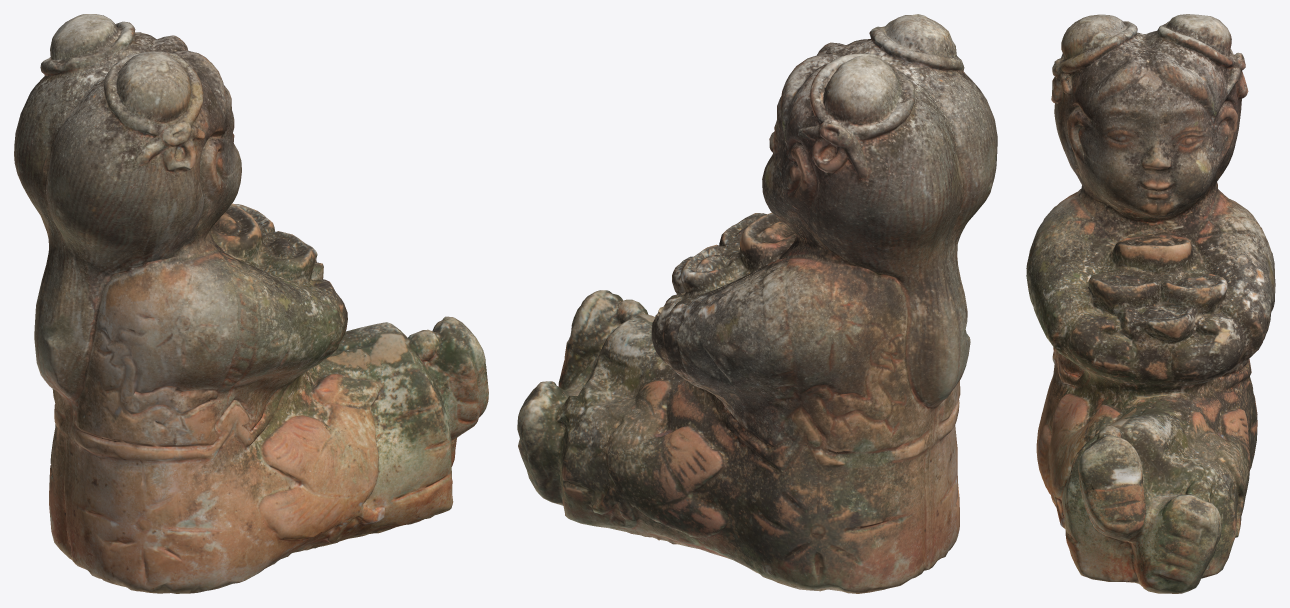
Rendered from SM_Statue_NN_05a.fbx.
The picture shows the model from 3 angles, left to right: view 1: azimuth 30°, elevation 25°; view 2: azimuth 150°, elevation 25°; view 3: azimuth 270°, elevation 25°; orthographic projection. The views are drawn at different scales.
Parts seen in each view (by area): view 1: SM_Statue_NN_05a; view 2: SM_Statue_NN_05a; view 3: SM_Statue_NN_05a.
Part boxes in pixels (x1,y1,x2,y2): SM_Statue_NN_05a: (14,14,488,593); SM_Statue_NN_05a: (517,14,997,593); SM_Statue_NN_05a: (1026,14,1275,593).
Bounding box in the file's own units: 0.4284 × 0.254 × 0.5033.
